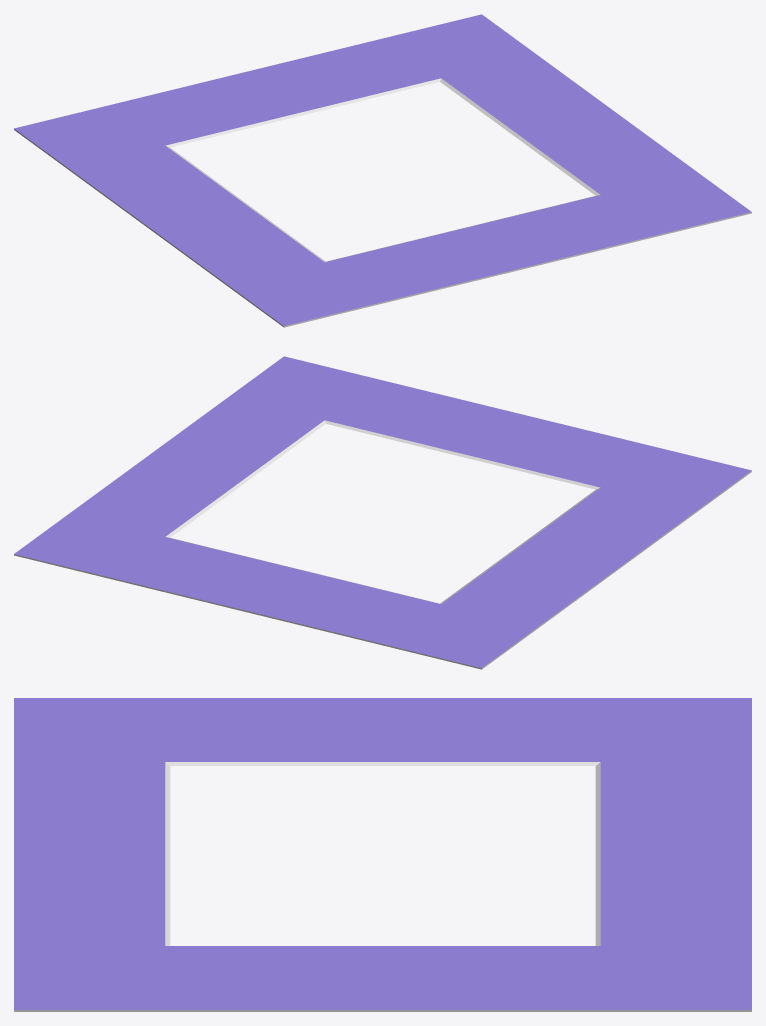
Rendered from PPetImage.gltf.
3 views of the same model, one above another, from view 1: azimuth 30°, elevation 25°; view 2: azimuth 150°, elevation 25°; view 3: azimuth 270°, elevation 25° (orthographic). The views are drawn at different scales.
Parts seen in each view (by area): view 1: Plane; view 2: Plane; view 3: Plane.
Boxes of the visible parts, x1,y1,x2,y2 form: Plane: [14, 14, 751, 327]; Plane: [14, 356, 751, 669]; Plane: [14, 698, 751, 1011].
Bounding box in the file's own units: 2 × 0.006 × 2.
